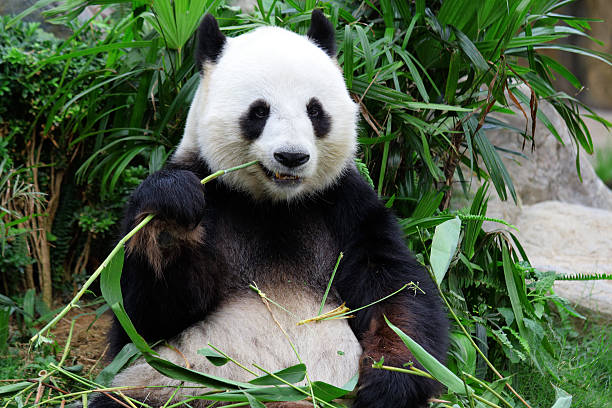panda: (175, 8, 377, 209)
